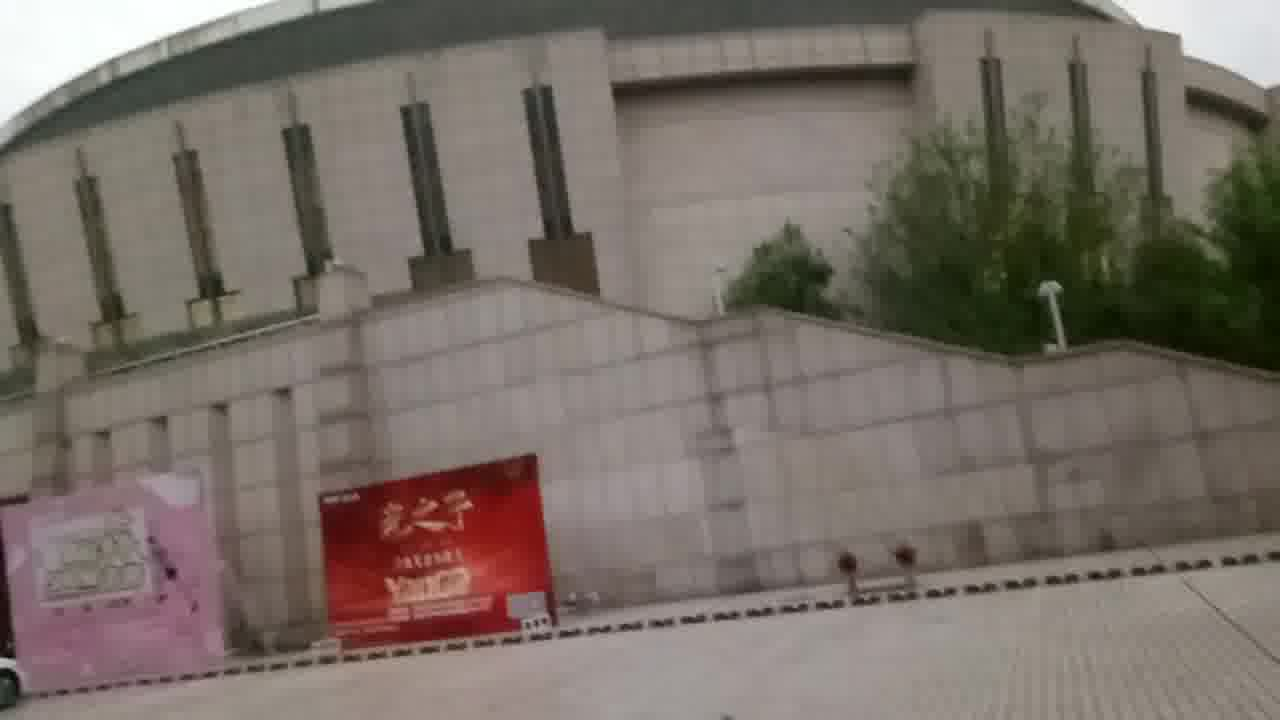zhongtiww: (16, 8, 1280, 618)
